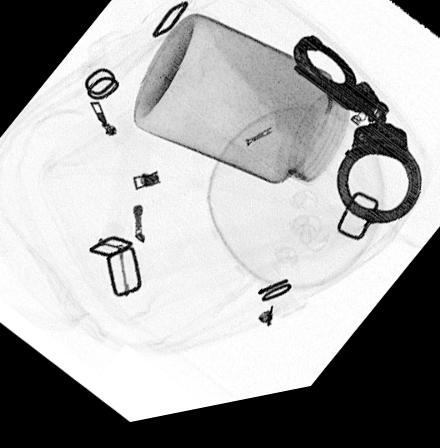HandCuffs: (290, 42, 424, 238)
